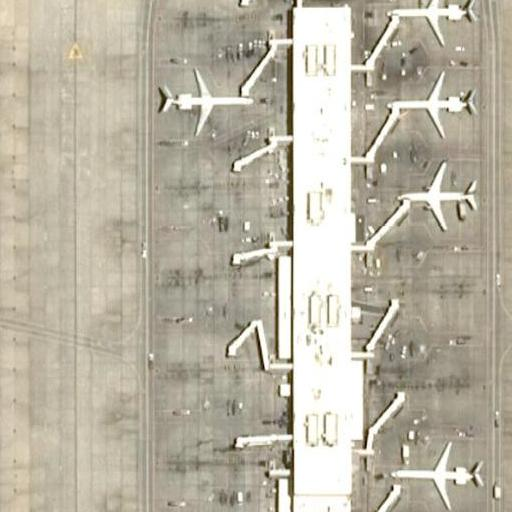Aircraft: (381, 65, 478, 136), (157, 67, 253, 135), (384, 439, 484, 504), (393, 159, 475, 230), (386, 0, 477, 46)
